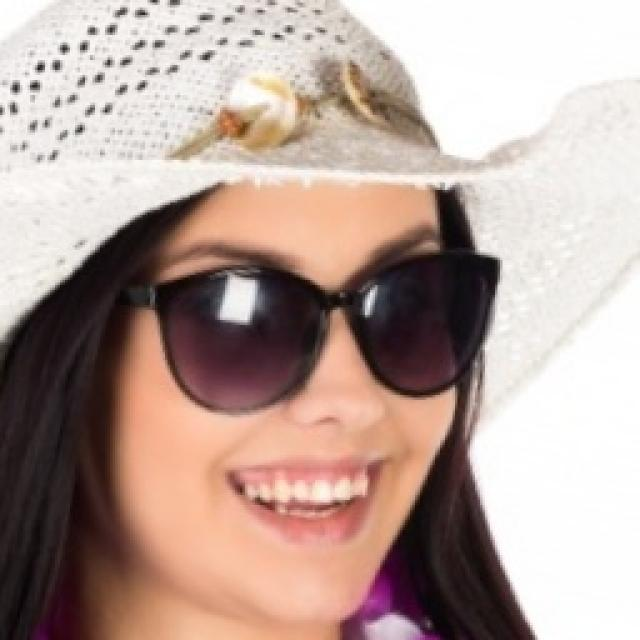glasses: (128, 236, 516, 418)
